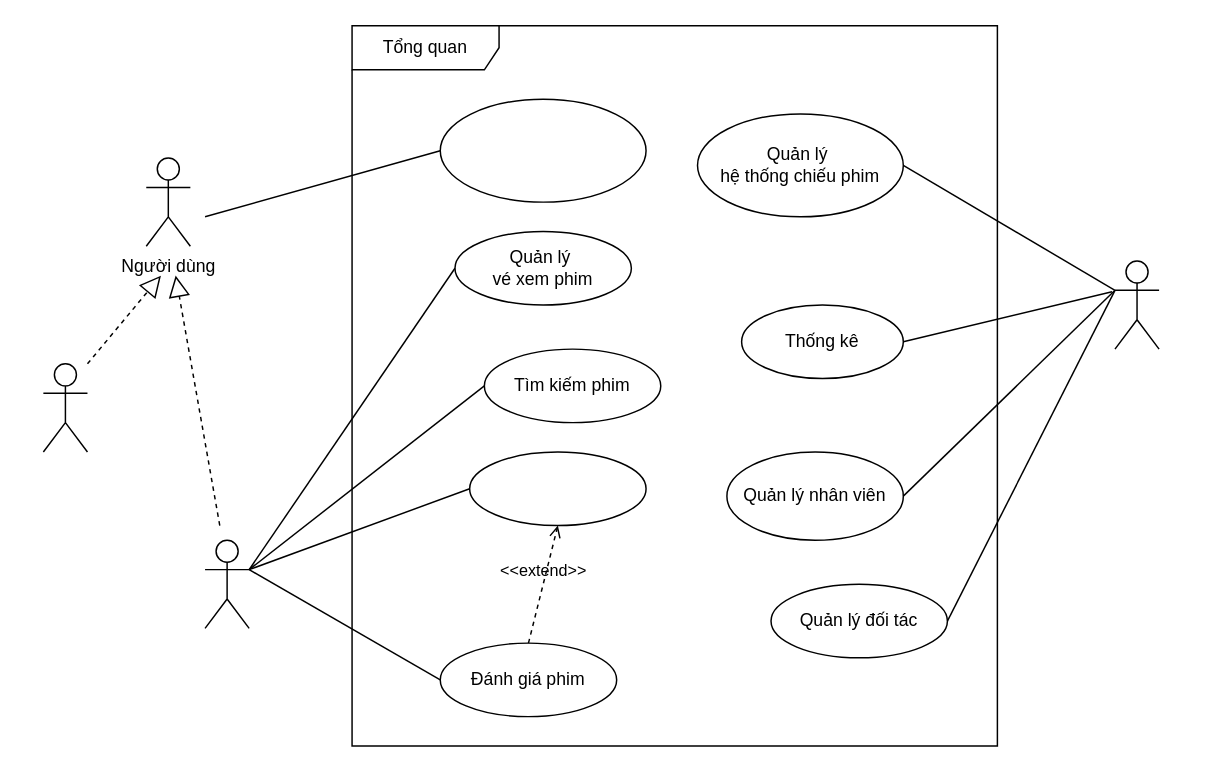
The diagram is 1211 pixels wide and 772 high, and some of its shapes have lost their labels. The shapes that lost their labels are listed below. From the top down, each one's centre as x and y in pixels, then its label:
At pixel 542 150: "Quản lý tài khoản cá nhân".
At pixel 1136 304: "Quản trị viên".
At pixel 64 407: "Nhân viên".
At pixel 557 488: "Xem thông tin phim".
At pixel 226 583: "Khách hàng".
